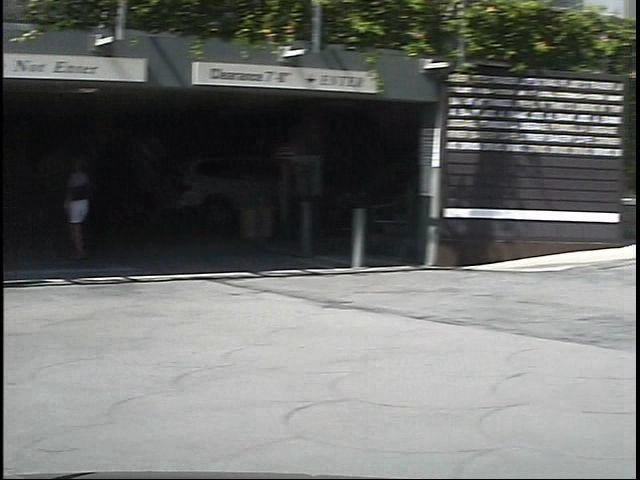person: (43, 146, 91, 269)
